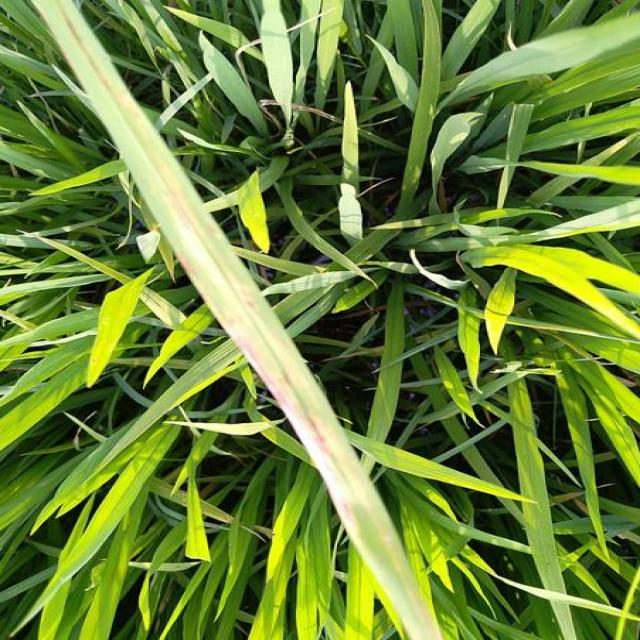Leaf Streak: (156, 214, 442, 640)
